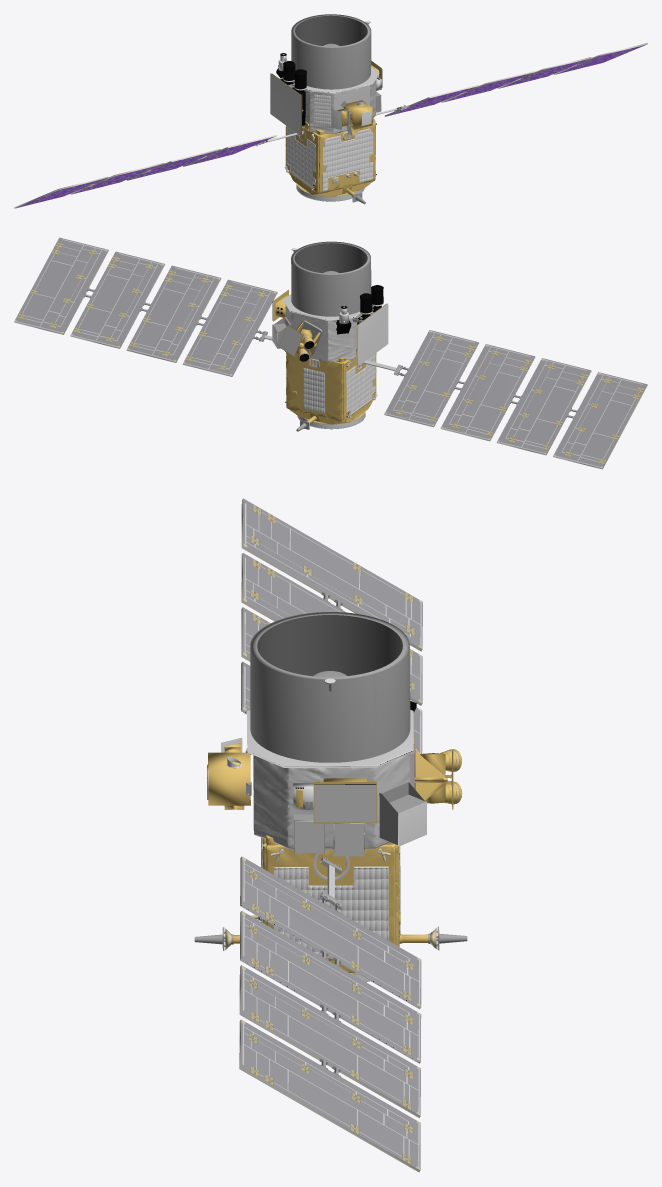
3 renders of one model, top to bottom at view 1: azimuth 30°, elevation 25°; view 2: azimuth 150°, elevation 25°; view 3: azimuth 270°, elevation 25°, orthographic. The views are drawn at different scales.
Parts seen in each view (by area): view 1: Mesh _cal_mirrors_0, Mesh _cal_tele_out_0, Mesh _cal_silver_0, Mesh _cal_solar_back_0, Mesh _cal_gold_0, Mesh _cal_tele_in_0, Mesh_cal_solar_1_0, Mesh _cal_gold_2_0, Mesh _cal_solar_side_0, Mesh _cal_solar_2_0, Mesh _cal_solar_3_0, Mesh _cal_solar_6_0 (+5 smaller); view 2: Mesh _cal_solar_back_0, Mesh _cal_silver_0, Mesh _cal_mirrors_0, Mesh _cal_tele_out_0, Mesh _cal_brown_0, Mesh _cal_gold_2_0, Mesh _cal_bronze_0, Mesh _cal_tele_in_0, Mesh _cal_gold_0, Mesh _cal_grey_0, Mesh _cal_solar_side_0, Mesh _cal_black_0 (+1 smaller); view 3: Mesh _cal_solar_back_0, Mesh _cal_silver_0, Mesh _cal_tele_out_0, Mesh _cal_tele_in_0, Mesh _cal_gold_0, Mesh _cal_mirrors_0, Mesh _cal_grey_0, Mesh _cal_brown_0, Mesh _cal_gold_1_0, Mesh _cal_bronze_0, Mesh _cal_solar_side_0.
Boxes of the visible parts, bbox=[...] form: Mesh _cal_mirrors_0: bbox=[270, 20, 373, 191]; Mesh _cal_tele_out_0: bbox=[291, 14, 371, 89]; Mesh _cal_silver_0: bbox=[267, 65, 397, 200]; Mesh _cal_solar_back_0: bbox=[16, 44, 646, 207]; Mesh _cal_gold_0: bbox=[285, 65, 378, 197]; Mesh _cal_tele_in_0: bbox=[295, 15, 367, 45]; Mesh_cal_solar_1_0: bbox=[17, 46, 642, 207]; Mesh _cal_gold_2_0: bbox=[285, 122, 376, 193]; Mesh _cal_solar_side_0: bbox=[14, 43, 647, 208]; Mesh _cal_solar_2_0: bbox=[19, 45, 645, 206]; Mesh _cal_solar_3_0: bbox=[27, 48, 631, 204]; Mesh _cal_solar_6_0: bbox=[22, 46, 640, 205]; Mesh _cal_solar_back_0: bbox=[14, 237, 647, 468]; Mesh _cal_silver_0: bbox=[16, 239, 642, 467]; Mesh _cal_mirrors_0: bbox=[272, 248, 388, 415]; Mesh _cal_tele_out_0: bbox=[291, 241, 371, 316]; Mesh _cal_brown_0: bbox=[17, 242, 644, 463]; Mesh _cal_gold_2_0: bbox=[286, 352, 376, 421]; Mesh _cal_bronze_0: bbox=[14, 242, 643, 468]; Mesh _cal_tele_in_0: bbox=[294, 243, 367, 273]; Mesh _cal_gold_0: bbox=[275, 295, 376, 424]; Mesh _cal_grey_0: bbox=[83, 249, 577, 431]; Mesh _cal_solar_side_0: bbox=[14, 250, 647, 469]; Mesh _cal_black_0: bbox=[272, 285, 383, 417]; Mesh _cal_solar_back_0: bbox=[240, 498, 422, 1170]; Mesh _cal_silver_0: bbox=[242, 503, 422, 1167]; Mesh _cal_tele_out_0: bbox=[250, 612, 410, 762]; Mesh _cal_tele_in_0: bbox=[257, 615, 402, 676]; Mesh _cal_gold_0: bbox=[208, 742, 400, 974]; Mesh _cal_mirrors_0: bbox=[207, 678, 426, 958]; Mesh _cal_grey_0: bbox=[194, 592, 467, 1076]; Mesh _cal_brown_0: bbox=[248, 504, 415, 1164]; Mesh _cal_gold_1_0: bbox=[233, 748, 462, 943]; Mesh _cal_bronze_0: bbox=[225, 505, 459, 1169]; Mesh _cal_solar_side_0: bbox=[239, 498, 422, 1172].
Size of the model in its own units: 95.27 by 24.22 by 19.1.
